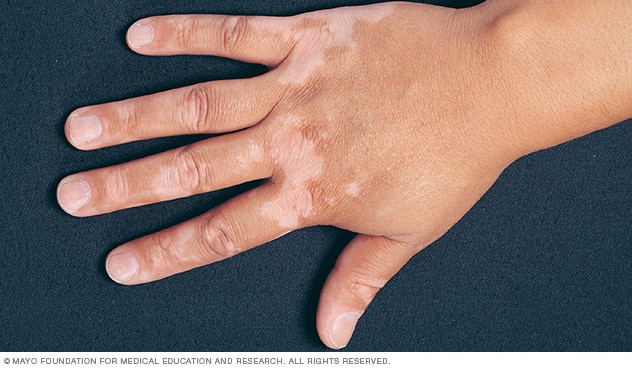vitiligo: (135, 30, 429, 224)
